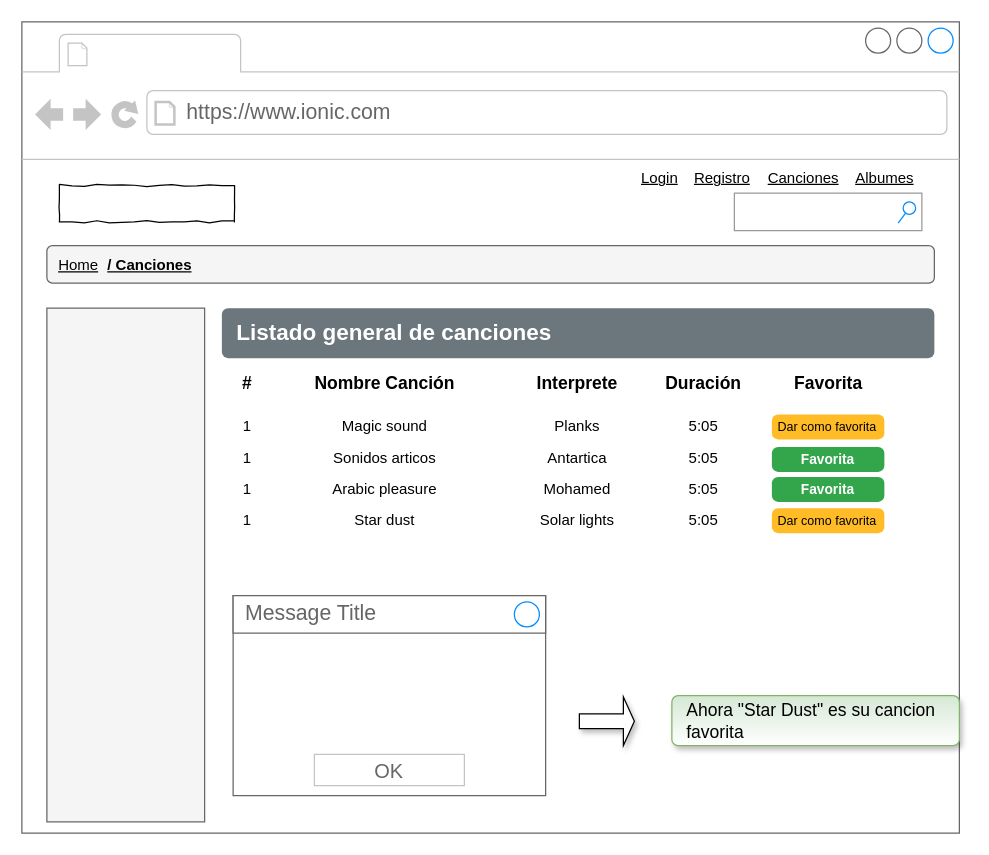
This 989x855 diagram has some shape labels left out. Each missing label, with the centre of its shape:
Confirma que desea dar el caracter de favorita a la canción "Star Dust"?: the point at 389,695
LOGO: the point at 146,203
Page 1: the point at 165,52
Search: the point at 827,211
